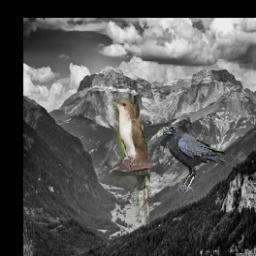Crow: (162, 124, 227, 193)
Cuckoo: (112, 98, 149, 229)
